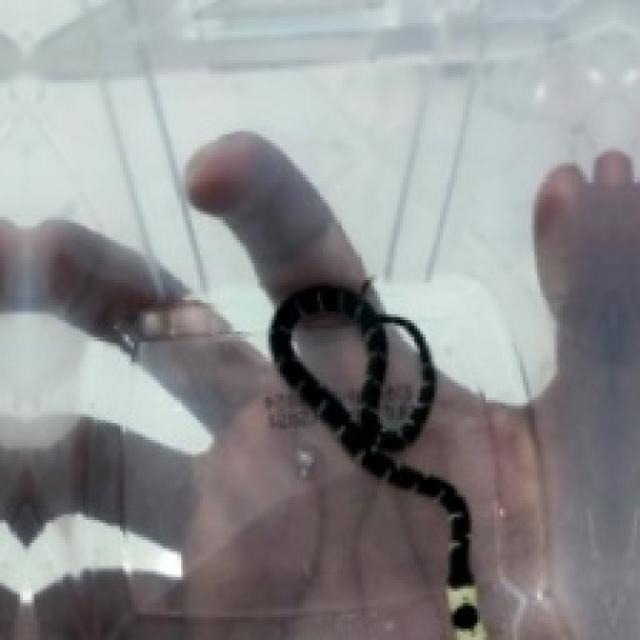gunthers philippine shrub snake: (269, 286, 486, 637)
